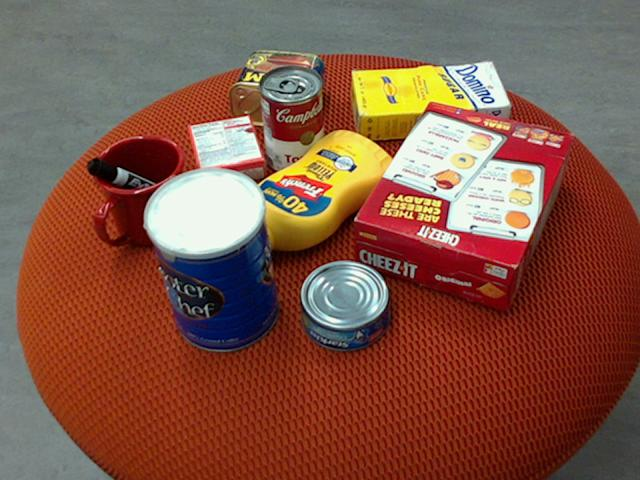cracker_box: (353, 100, 574, 309)
gelatin_box: (187, 114, 264, 190)
large_marker: (86, 158, 186, 212)
master_chef_can: (140, 169, 279, 353)
mug: (91, 135, 191, 246)
mustard_bottle: (231, 129, 396, 257)
potted_meat_can: (229, 50, 325, 129)
sugar_box: (349, 60, 511, 141)
tomato_soup_can: (258, 64, 324, 174)
tuna_fish_can: (300, 260, 391, 352)
